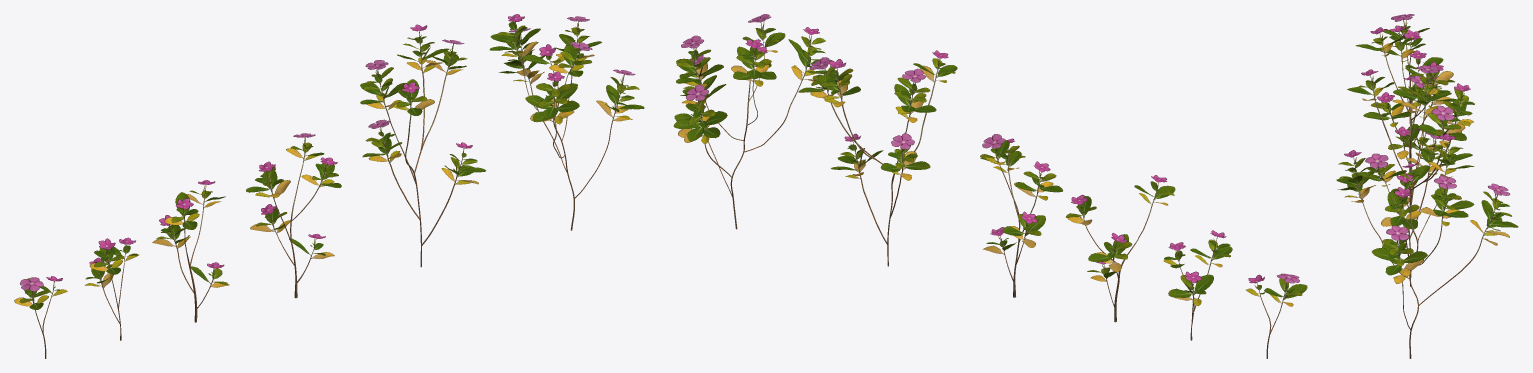
Rendered from periwinkle_plant.glb.
The picture shows the model from 3 angles, left to right: view 1: azimuth 30°, elevation 25°; view 2: azimuth 150°, elevation 25°; view 3: azimuth 270°, elevation 25°; orthographic projection. The views are drawn at different scales.
Visible parts, largest first — view 1: periwinkle_plant_01_LOD0, periwinkle_plant_02_LOD0, periwinkle_plant_03_LOD0, periwinkle_plant_04_LOD0, periwinkle_plant_05_LOD0, periwinkle_plant_06_LOD0; view 2: periwinkle_plant_01_LOD0, periwinkle_plant_02_LOD0, periwinkle_plant_03_LOD0, periwinkle_plant_04_LOD0, periwinkle_plant_05_LOD0, periwinkle_plant_06_LOD0; view 3: periwinkle_plant_01_LOD0, periwinkle_plant_02_LOD0, periwinkle_plant_03_LOD0, periwinkle_plant_04_LOD0, periwinkle_plant_05_LOD0, periwinkle_plant_06_LOD0.
Boxes of the visible parts, left/top/right/bottom form: periwinkle_plant_01_LOD0: left=489, top=14, right=644, bottom=230; periwinkle_plant_02_LOD0: left=360, top=24, right=485, bottom=267; periwinkle_plant_03_LOD0: left=246, top=133, right=341, bottom=298; periwinkle_plant_04_LOD0: left=152, top=180, right=229, bottom=322; periwinkle_plant_05_LOD0: left=85, top=237, right=138, bottom=340; periwinkle_plant_06_LOD0: left=14, top=276, right=67, bottom=358; periwinkle_plant_01_LOD0: left=673, top=14, right=833, bottom=229; periwinkle_plant_02_LOD0: left=798, top=50, right=957, bottom=266; periwinkle_plant_03_LOD0: left=980, top=134, right=1062, bottom=297; periwinkle_plant_04_LOD0: left=1066, top=175, right=1175, bottom=322; periwinkle_plant_05_LOD0: left=1163, top=230, right=1232, bottom=340; periwinkle_plant_06_LOD0: left=1246, top=273, right=1307, bottom=358; periwinkle_plant_01_LOD0: left=1336, top=133, right=1518, bottom=358; periwinkle_plant_02_LOD0: left=1347, top=65, right=1474, bottom=286; periwinkle_plant_03_LOD0: left=1363, top=75, right=1440, bottom=207; periwinkle_plant_04_LOD0: left=1355, top=27, right=1455, bottom=171; periwinkle_plant_05_LOD0: left=1377, top=25, right=1454, bottom=123; periwinkle_plant_06_LOD0: left=1383, top=14, right=1429, bottom=103.
Size of the model in its own units: 1.24 by 0.4107 by 0.3208.
Materials: 1 (1 with a texture image).
